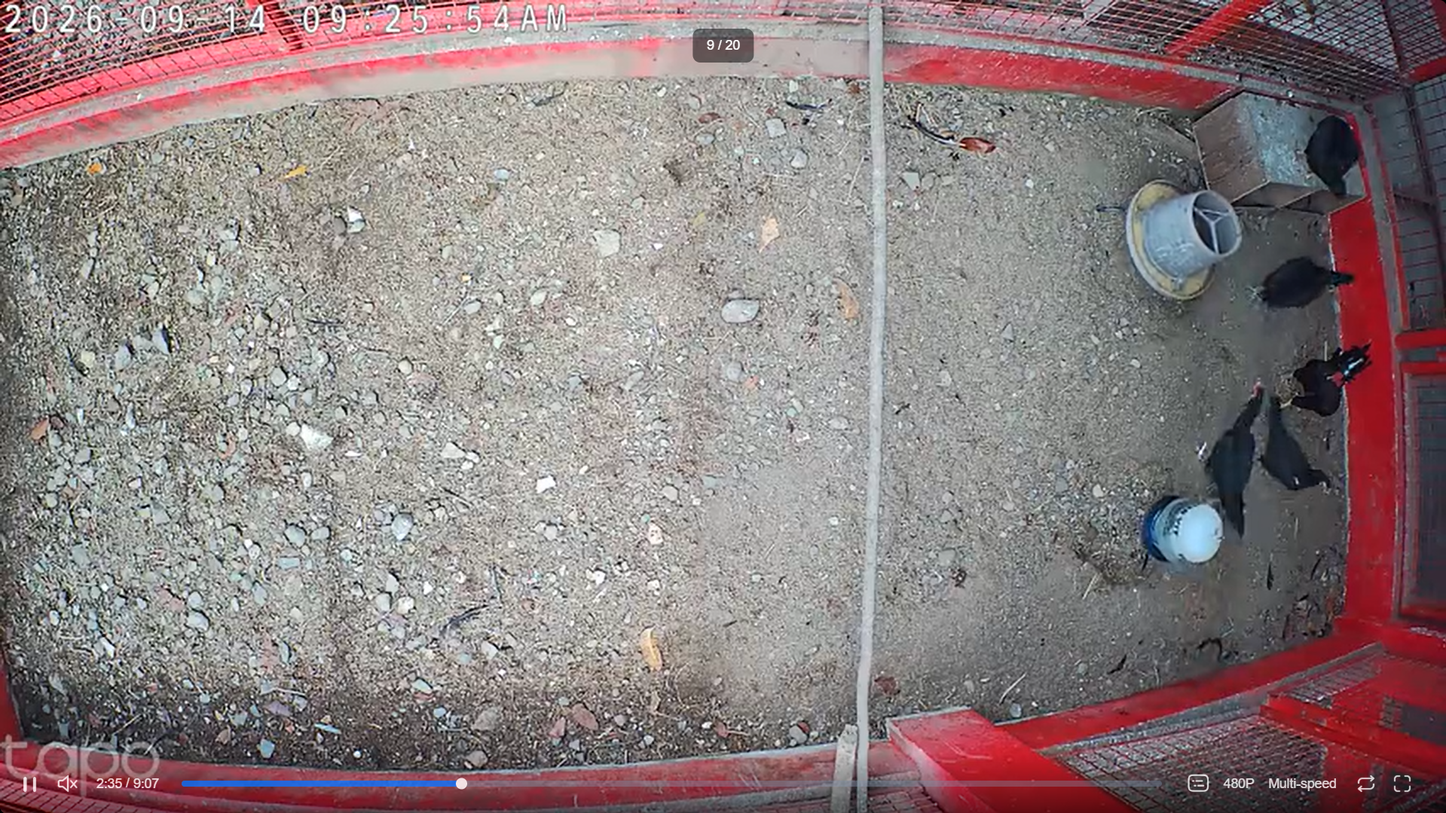Chicken: (1194, 378, 1266, 546), (1253, 395, 1331, 495), (1246, 255, 1362, 313), (1293, 113, 1365, 201)
Rooster: (1276, 338, 1375, 416)
